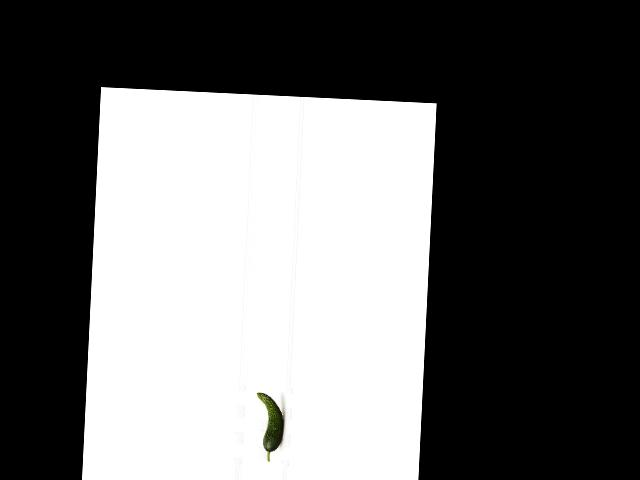cucumber: (254, 392, 284, 462)
